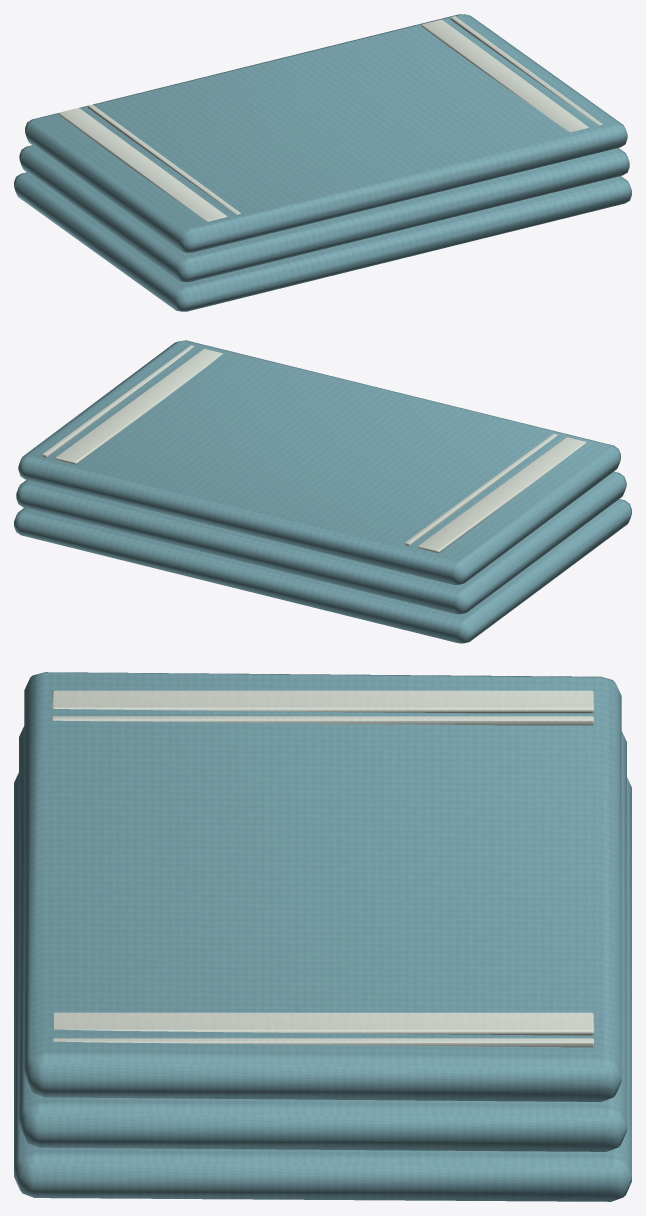
Rendered from Towel.fbx.
3 renders of one model, top to bottom at view 1: azimuth 30°, elevation 25°; view 2: azimuth 150°, elevation 25°; view 3: azimuth 270°, elevation 25°, orthographic. The views are drawn at different scales.
Parts seen in each view (by area): view 1: Towel_Mesh; view 2: Towel_Mesh; view 3: Towel_Mesh.
Boxes of the visible parts, <box> form: Towel_Mesh: <box>14,14,631,311</box>; Towel_Mesh: <box>14,340,631,643</box>; Towel_Mesh: <box>14,672,631,1201</box>.
Size of the model in its own units: 0.28 by 0.0483 by 0.18.
Materials: 1 (1 with a texture image).
